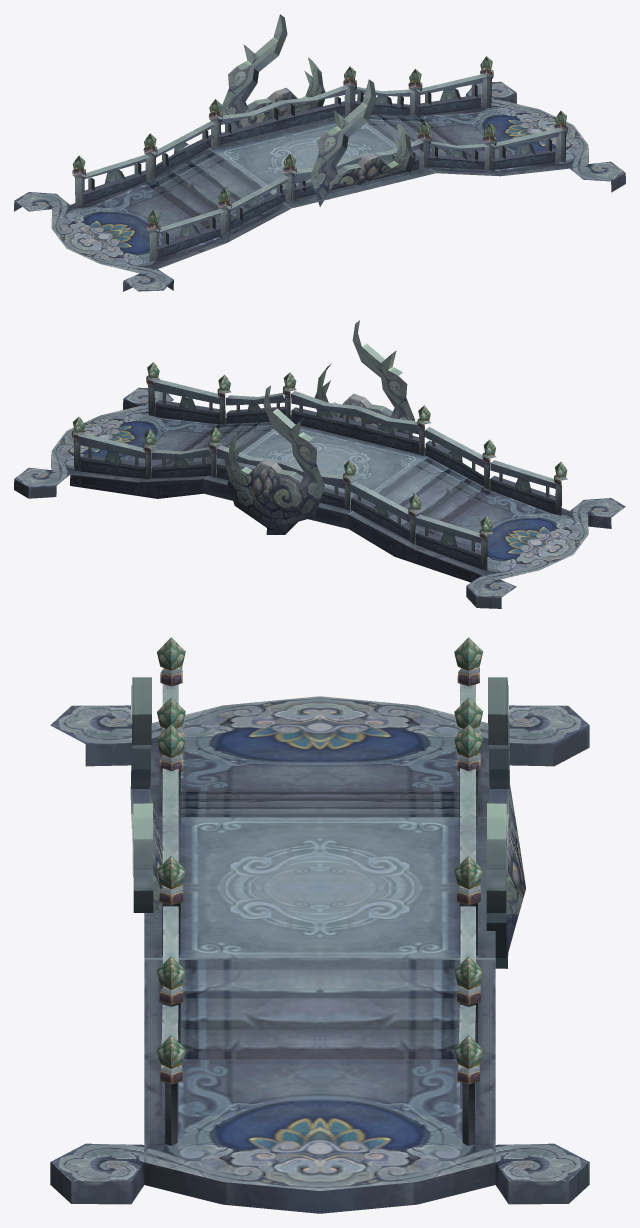
File: fb_yuqinggong_qiao02.FBX
3 views of the same model, one above another, from view 1: azimuth 30°, elevation 25°; view 2: azimuth 150°, elevation 25°; view 3: azimuth 270°, elevation 25° (orthographic). The views are drawn at different scales.
Parts seen in each view (by area): view 1: fb_yuqinggong_qiao02; view 2: fb_yuqinggong_qiao02; view 3: fb_yuqinggong_qiao02.
Part boxes in pixels (box(x1,y1,x2,y2)): fb_yuqinggong_qiao02: box(14, 14, 625, 291); fb_yuqinggong_qiao02: box(14, 320, 625, 608); fb_yuqinggong_qiao02: box(50, 637, 589, 1213).
Size of the model in its own units: 1169 by 326 by 538.
